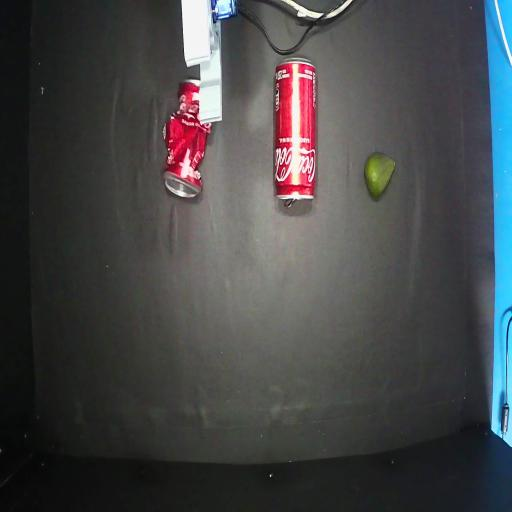higo: (364, 152, 395, 198)
lata: (274, 60, 317, 204)
lata_defectuoso: (163, 80, 210, 197)
